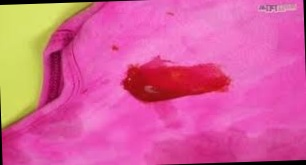lipstick: (118, 54, 236, 106), (164, 11, 175, 19), (111, 46, 121, 54)
